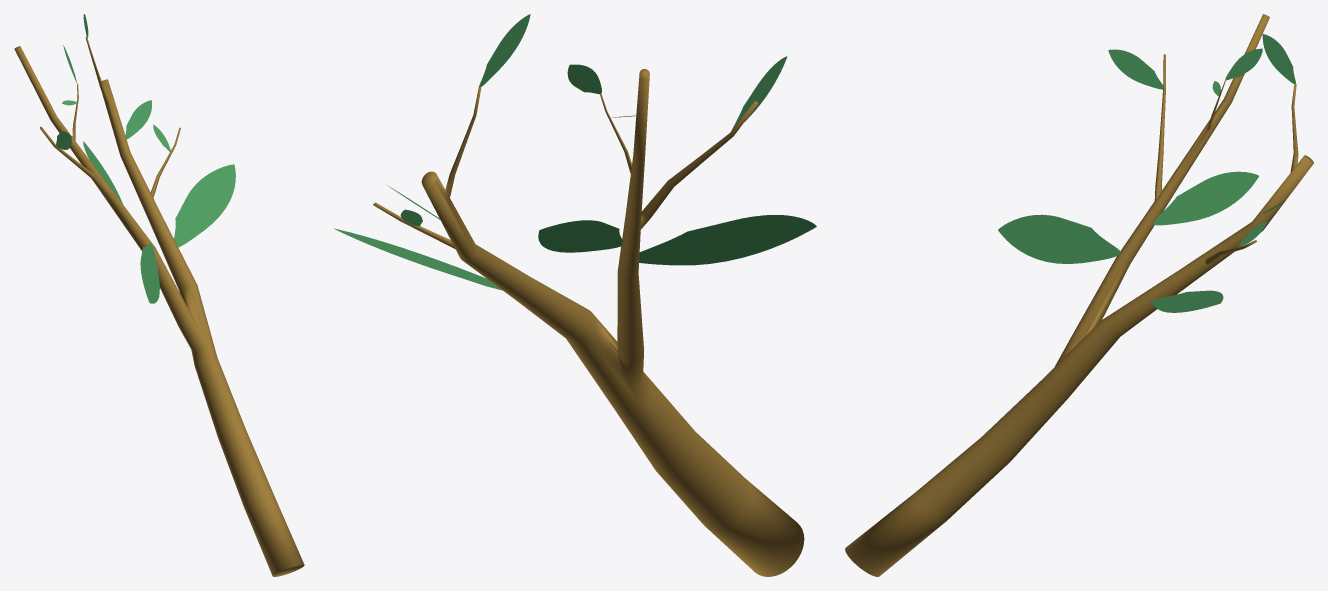
File: CutleafRosemary.fbx
3 views of the same model, side by side, from view 1: azimuth 30°, elevation 25°; view 2: azimuth 150°, elevation 25°; view 3: azimuth 270°, elevation 25° (orthographic). The views are drawn at different scales.
Visible parts, largest first — view 1: Cutleaf_Rosemary; view 2: Cutleaf_Rosemary; view 3: Cutleaf_Rosemary.
Boxes of the visible parts, <box> form: Cutleaf_Rosemary: <box>14,14,304,576</box>; Cutleaf_Rosemary: <box>334,14,816,576</box>; Cutleaf_Rosemary: <box>845,14,1313,576</box>.
Size of the model in its own units: 429 by 841 by 684.
1 material, 1 textured.
